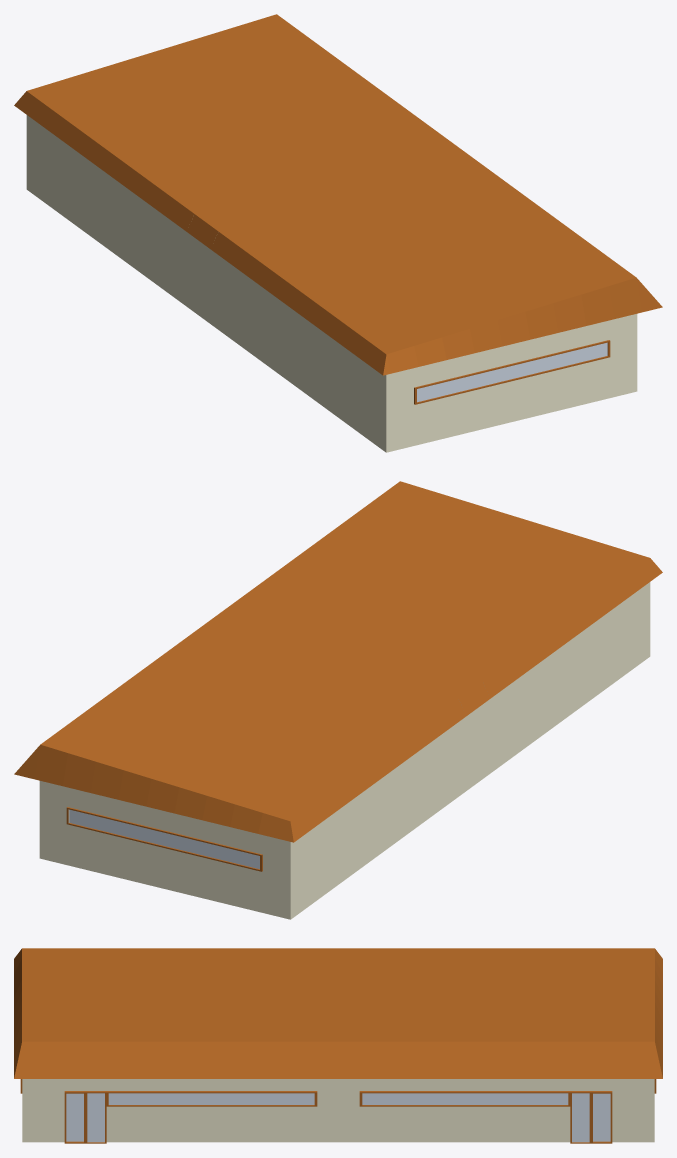
Rendered from shop.glb.
The picture shows the model from 3 angles, top to bottom: view 1: azimuth 30°, elevation 25°; view 2: azimuth 150°, elevation 25°; view 3: azimuth 270°, elevation 25°; orthographic projection. The views are drawn at different scales.
Parts seen in each view (by area): view 1: Shop_building; view 2: Shop_building; view 3: Shop_building.
Boxes of the visible parts, left/top/right/bottom form: Shop_building: left=14, top=14, right=662, bottom=452; Shop_building: left=14, top=481, right=662, bottom=919; Shop_building: left=14, top=948, right=662, bottom=1143.
Bounding box in the file's own units: 1.52 × 0.591 × 3.46.
